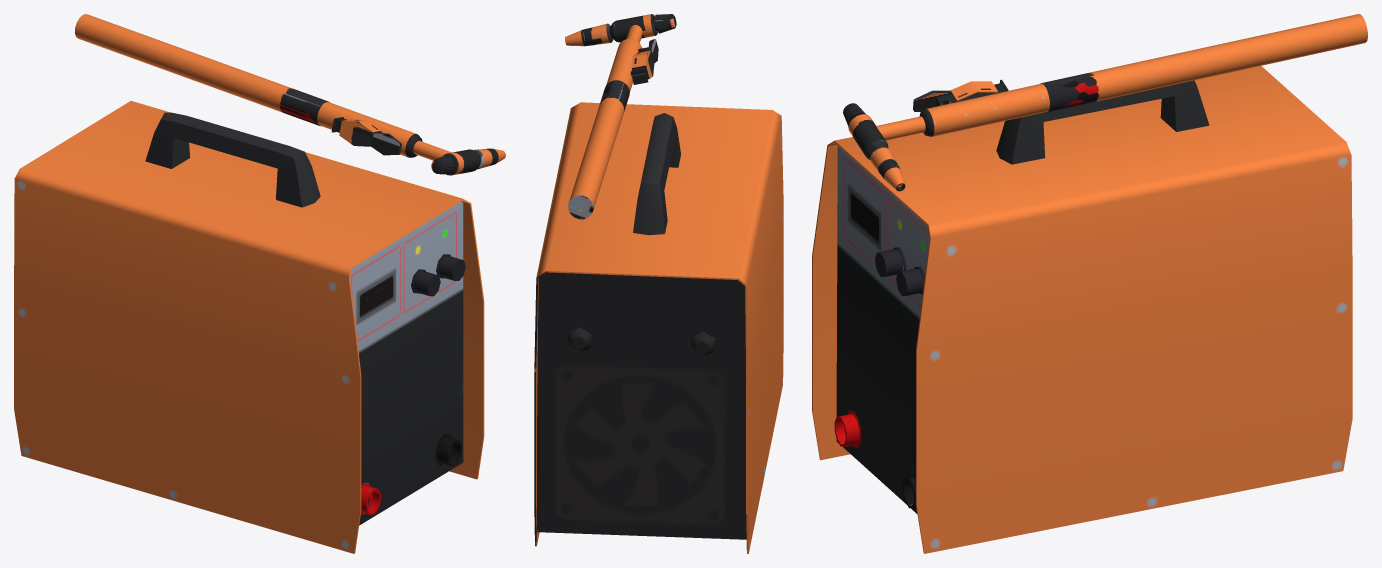
3 views of the same model, side by side, from view 1: azimuth 30°, elevation 25°; view 2: azimuth 150°, elevation 25°; view 3: azimuth 270°, elevation 25° (orthographic). The views are drawn at different scales.
Parts seen in each view (by area): view 1: dianhanjijiqi_polySurface1_dianhan, dianhan_qiang_pCube7; view 2: dianhanjijiqi_polySurface1_dianhan, dianhan_qiang_pCube7; view 3: dianhanjijiqi_polySurface1_dianhan, dianhan_qiang_pCube7.
Part boxes in pixels (x1=…): dianhanjijiqi_polySurface1_dianhan: x1=14, y1=101, x2=484, y2=553; dianhan_qiang_pCube7: x1=75, y1=14, x2=505, y2=175; dianhanjijiqi_polySurface1_dianhan: x1=534, y1=102, x2=783, y2=553; dianhan_qiang_pCube7: x1=565, y1=14, x2=676, y2=219; dianhanjijiqi_polySurface1_dianhan: x1=812, y1=66, x2=1352, y2=553; dianhan_qiang_pCube7: x1=843, y1=14, x2=1367, y2=191.
Bounding box in the file's own units: 40.91 × 43.22 × 51.16.
1 material, 1 textured.
